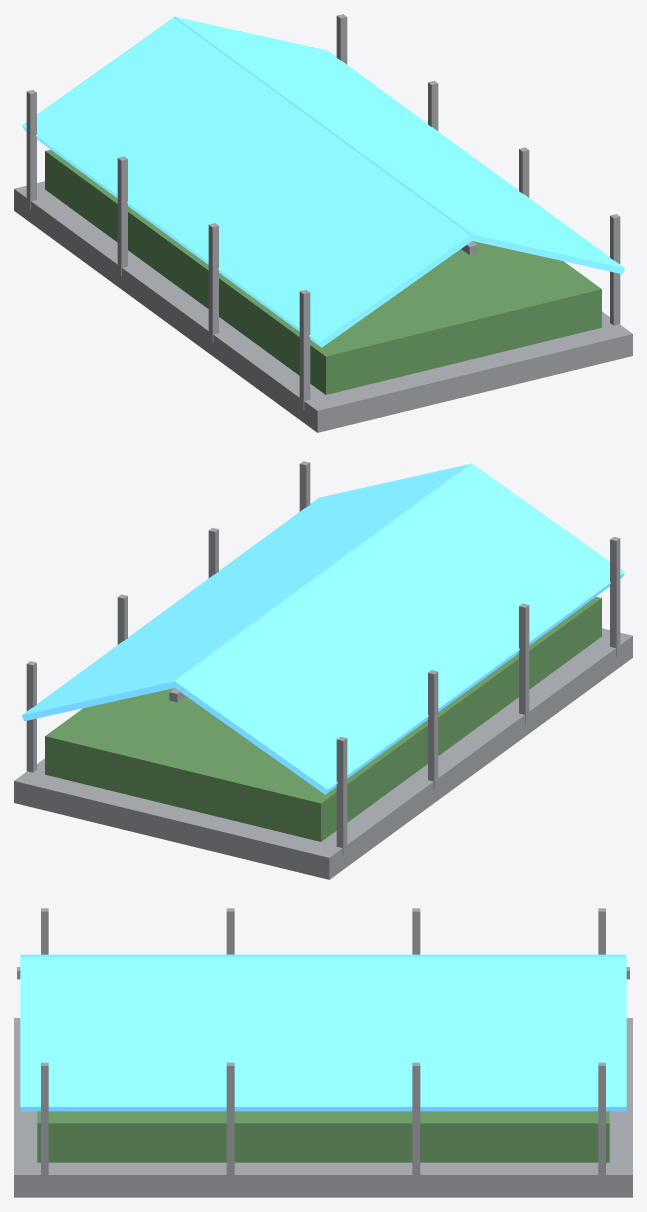
Rendered from Greenhouse.glb.
The picture shows the model from 3 angles, top to bottom: view 1: azimuth 30°, elevation 25°; view 2: azimuth 150°, elevation 25°; view 3: azimuth 270°, elevation 25°; orthographic projection.
Parts seen in each view (by area): view 1: Greenhouse; view 2: Greenhouse; view 3: Greenhouse.
Boxes of the visible parts, x1,y1,x2,y2 form: Greenhouse: (14, 14, 632, 432); Greenhouse: (14, 461, 632, 879); Greenhouse: (14, 908, 632, 1197).
Bounding box in the file's own units: 12.05 × 5.75 × 20.
